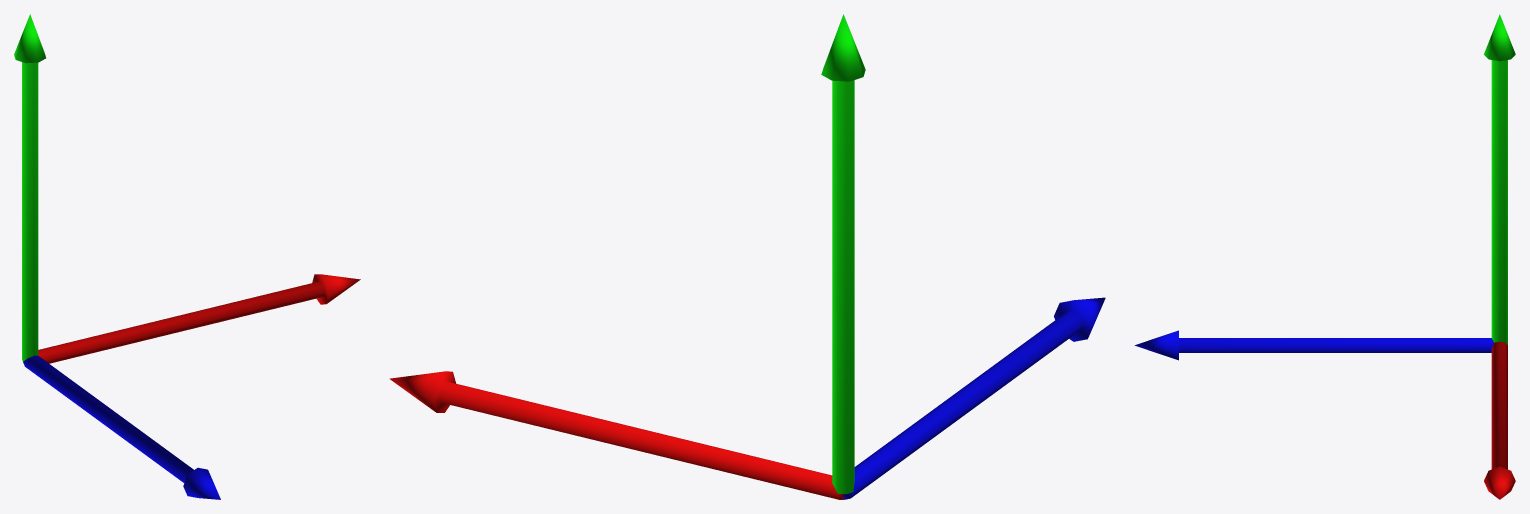
The model's file is emptyCol.dae.
The picture shows the model from 3 angles, left to right: view 1: azimuth 30°, elevation 25°; view 2: azimuth 150°, elevation 25°; view 3: azimuth 270°, elevation 25°; orthographic projection. The views are drawn at different scales.
Parts seen in each view (by area): view 1: empty; view 2: empty; view 3: empty.
Part boxes in pixels (x1,y1,x2,y2): empty: (14,14,360,499); empty: (389,14,1105,499); empty: (1134,14,1515,499).
Bounding box in the file's own units: 0.4759 × 0.4759 × 0.4759.
